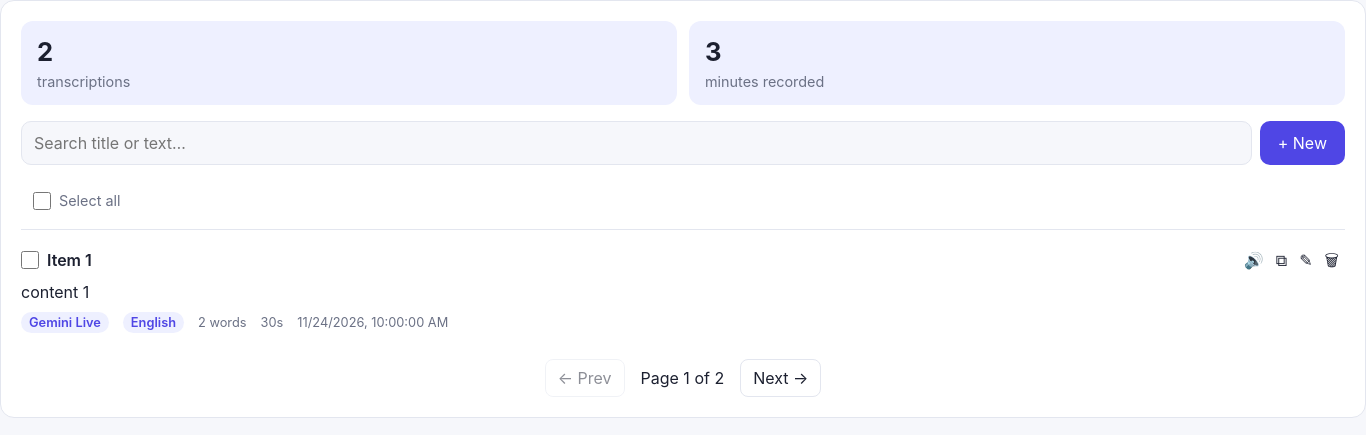
HistoryDashboard › pages through results
Expected: the text "Page 1 of 2" is shown, [640,366,724,390]
Expected: the button "← Prev" is disabled, [545,359,625,397]
What coordinates should you click on to do the following:
click the button "Next →"
I would click on:
 (781, 378)
Its box is [740,359,821,397].
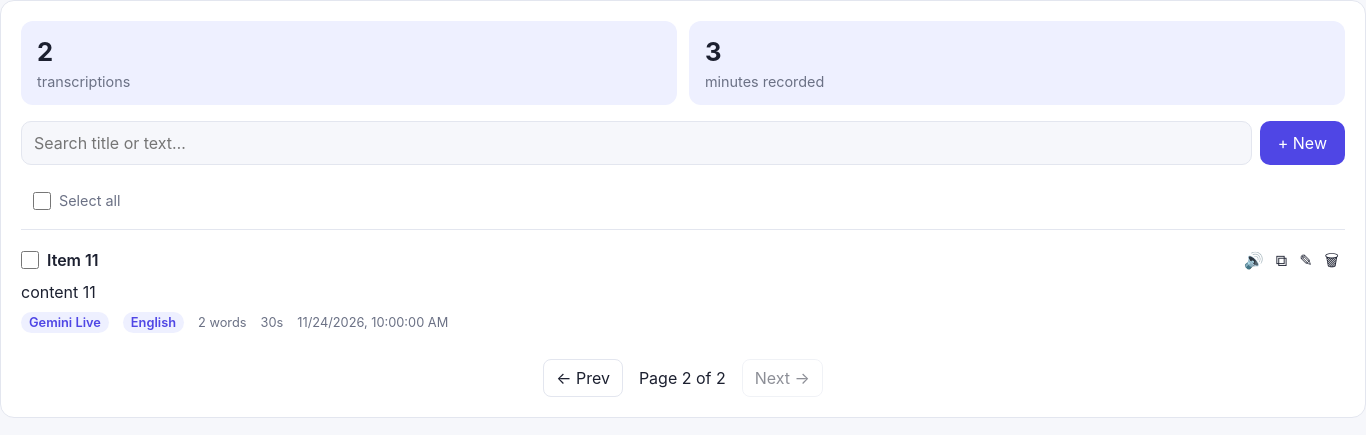
Result: the text "Page 2 of 2" is shown at [639,366,726,390]
Result: the button "Item 11" is shown at [47,248,1230,272]
Result: the button "Next →" is disabled at [742,359,823,397]
What coordinates should you click on to do the following:
click the button "← Prev"
I would click on:
 (583, 378)
Its box is [543,359,623,397].
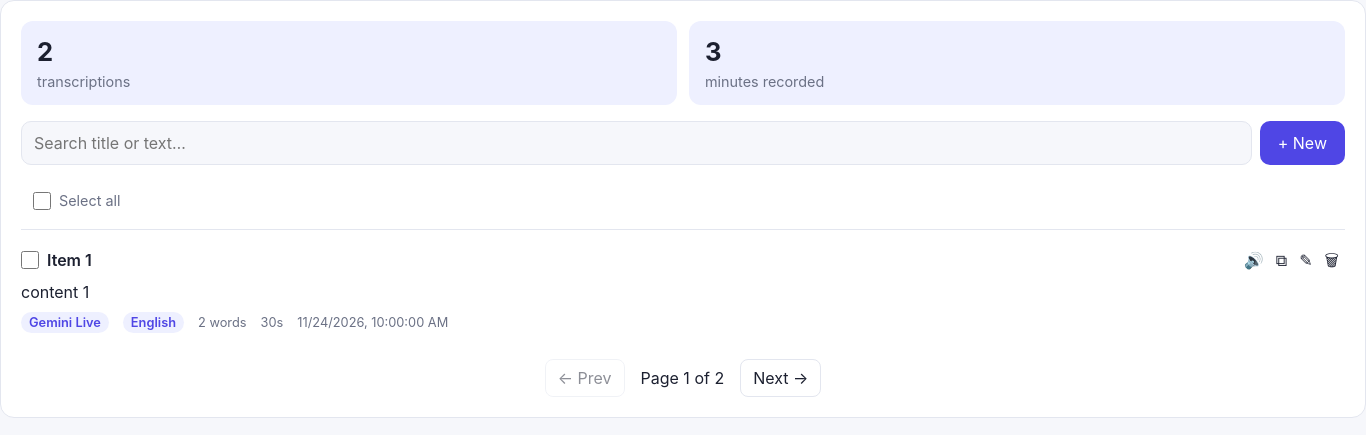
Result: the text "Page 1 of 2" is shown at [640,366,724,390]
